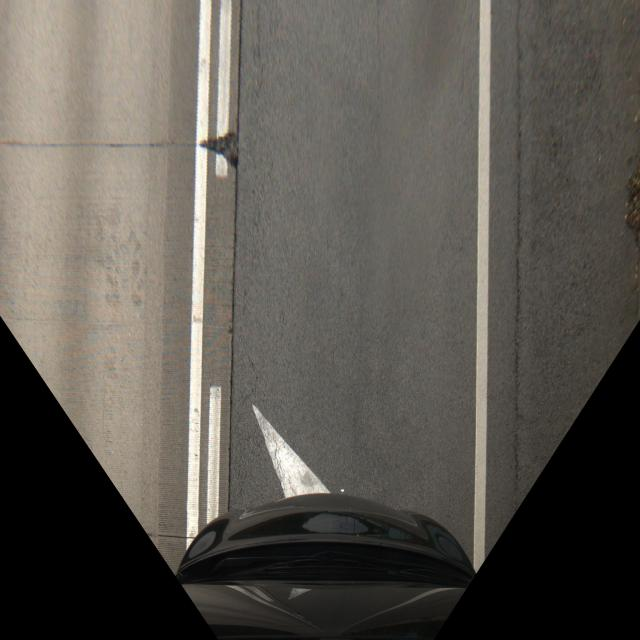chang_lane_left: (156, 361, 506, 516)
